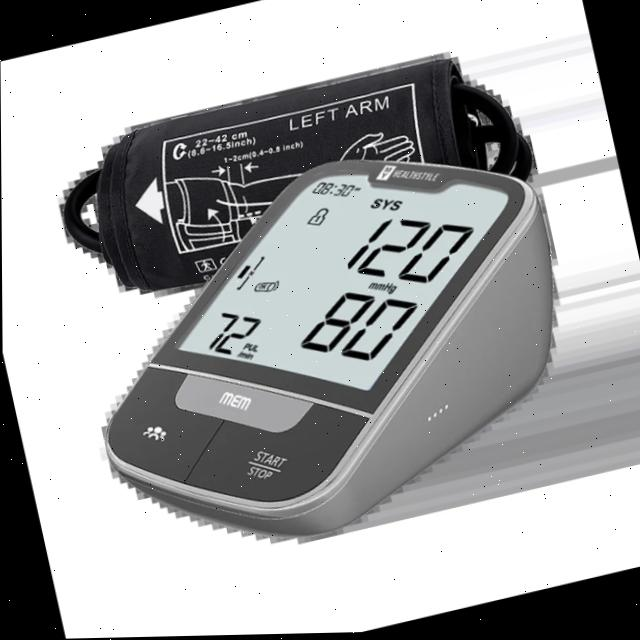dia: (282, 277, 429, 379)
pul: (192, 304, 271, 364)
ssd: (175, 90, 508, 454)
sys: (330, 207, 480, 294)
